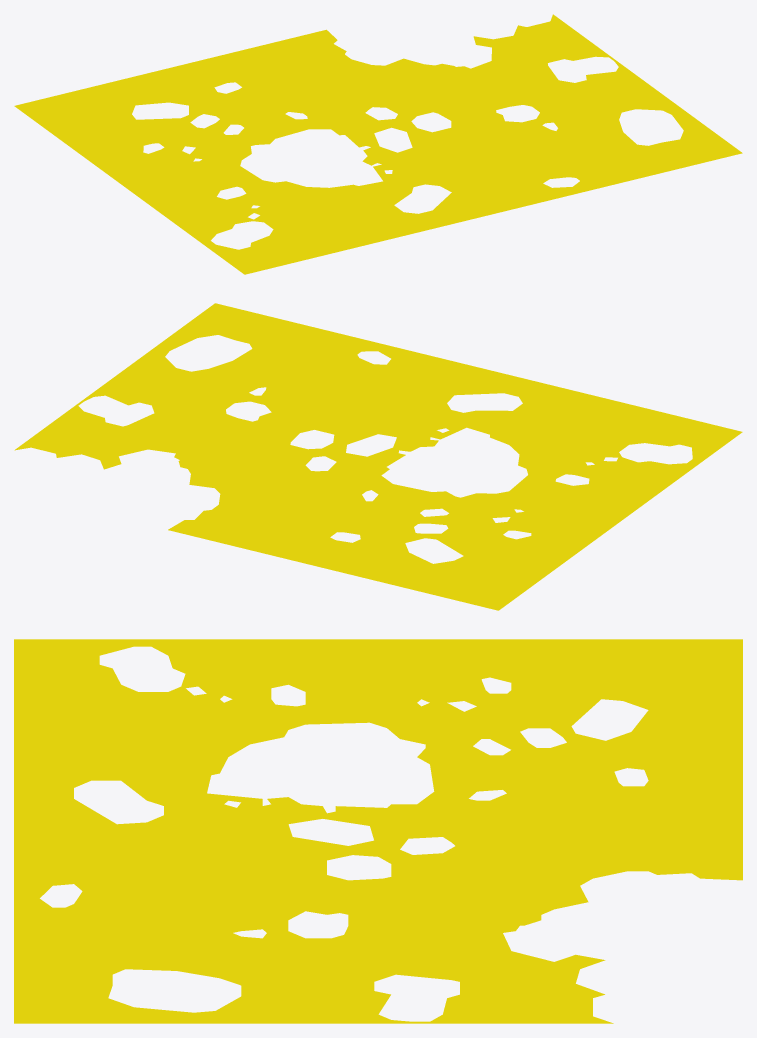
Rendered from navMeshT.glb.
The picture shows the model from 3 angles, top to bottom: view 1: azimuth 30°, elevation 25°; view 2: azimuth 150°, elevation 25°; view 3: azimuth 270°, elevation 25°; orthographic projection. The views are drawn at different scales.
Parts seen in each view (by area): view 1: Navmesh; view 2: Navmesh; view 3: Navmesh.
Part boxes in pixels (x1,y1,x2,y2): Navmesh: (14,14,742,274); Navmesh: (14,303,742,610); Navmesh: (14,639,742,1023).
Size of the model in its own units: 63.6 by 0 by 51.
